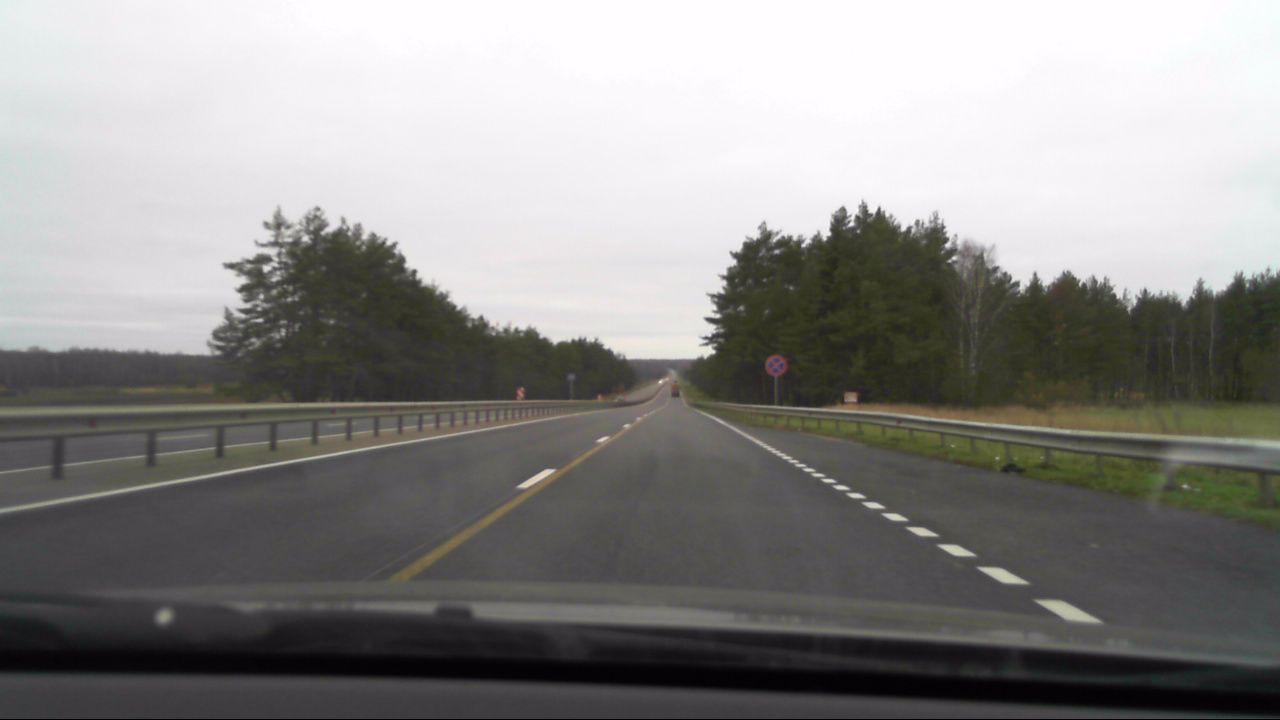No Parking: (765, 353, 788, 380)
